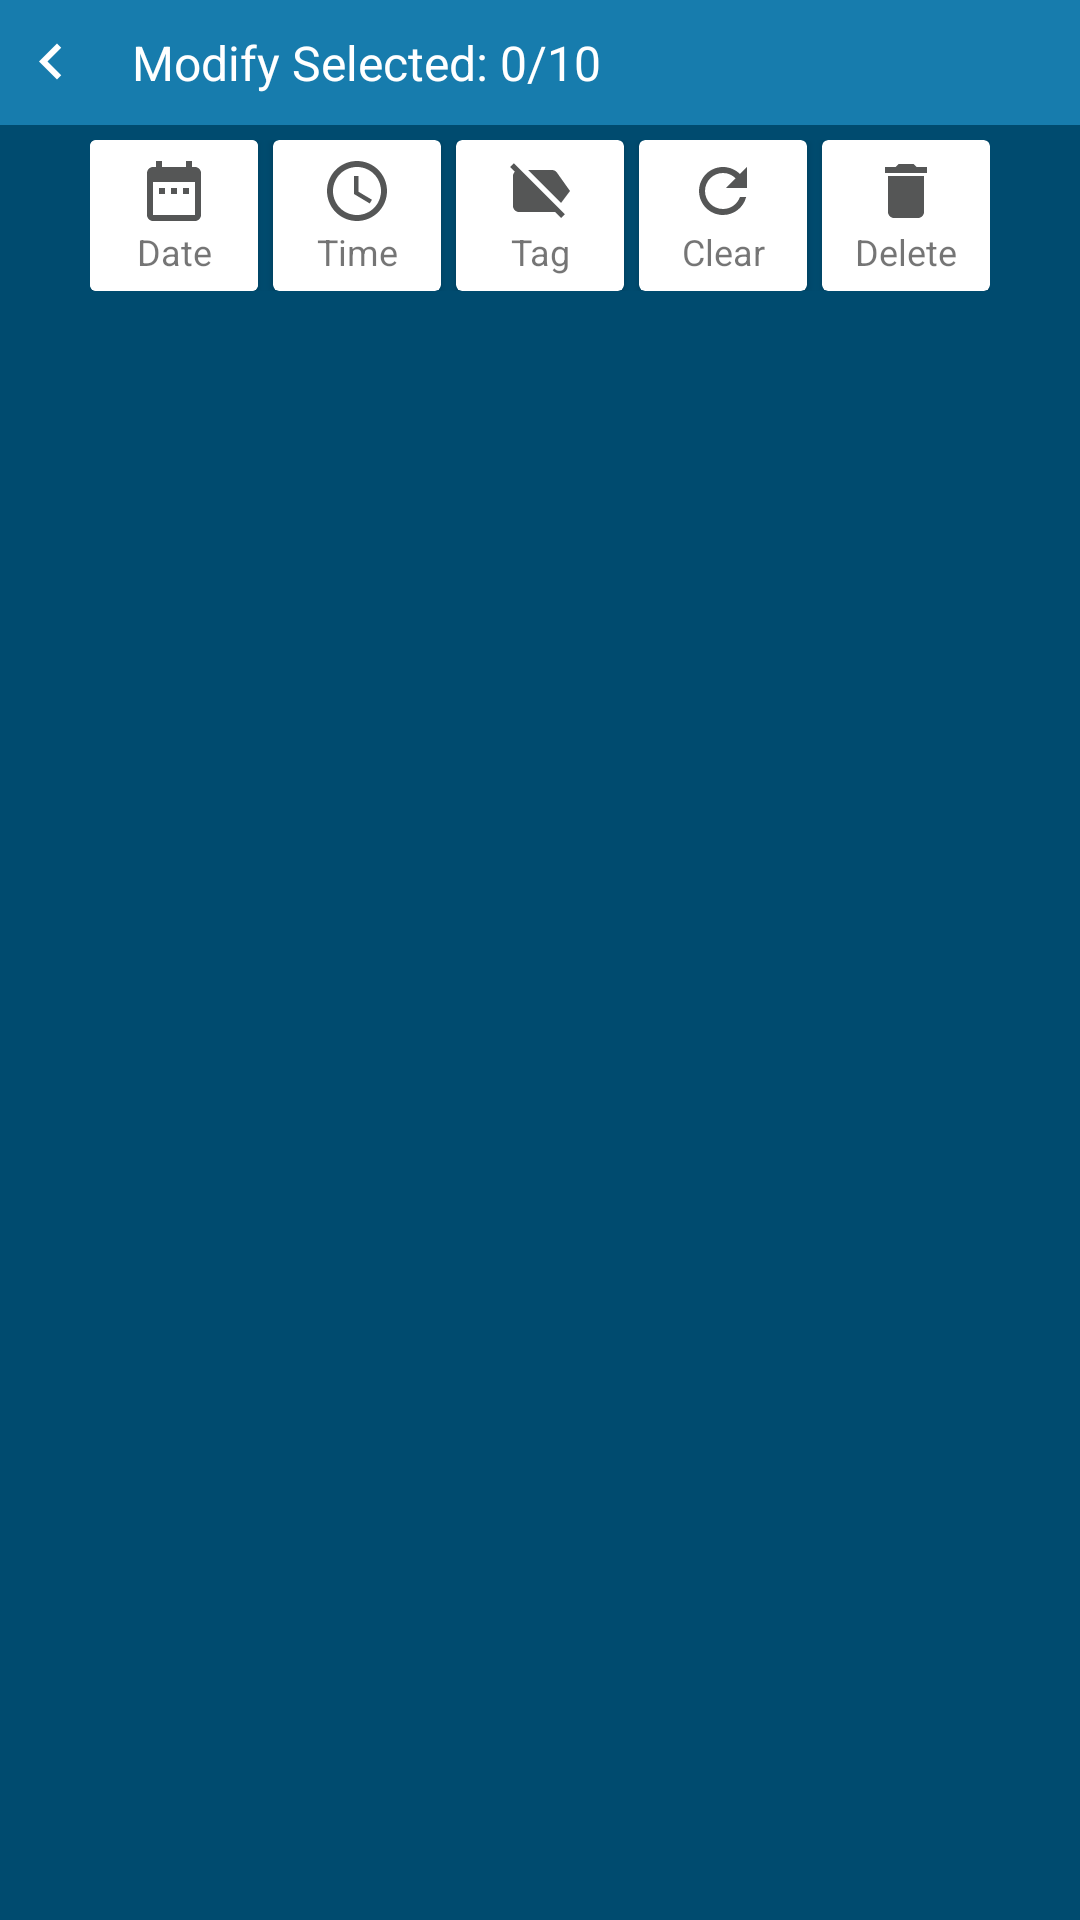

Icon bounding boxes for this 1080×1920 phone screenshot, format [left=x1, top=y1, right=x2, bottom=y2]:
arrow left: [left=39, top=43, right=61, bottom=80]
